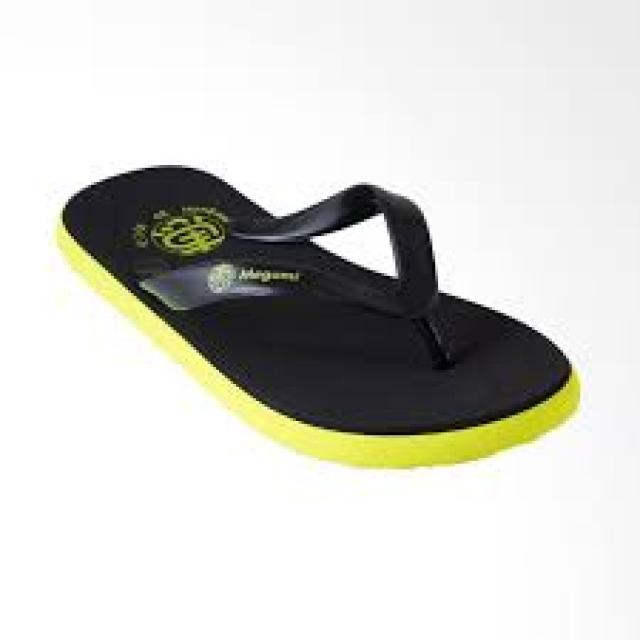Sandals: (48, 107, 617, 535)
